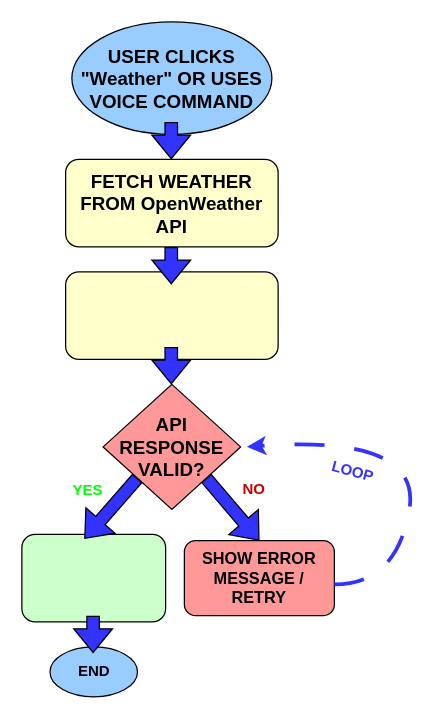
The diagram is 434 pixels wide and 719 high, and some of its shapes have lost their labels. The shapes that lost their labels are listed below. From the top down, each one's centre as x and y in pixels, then its label:
the point at 171,315: PROCESS API RESPONSE (temperature, humidity, wind)
the point at 93,577: DISPLAY WEATHER + TTS
